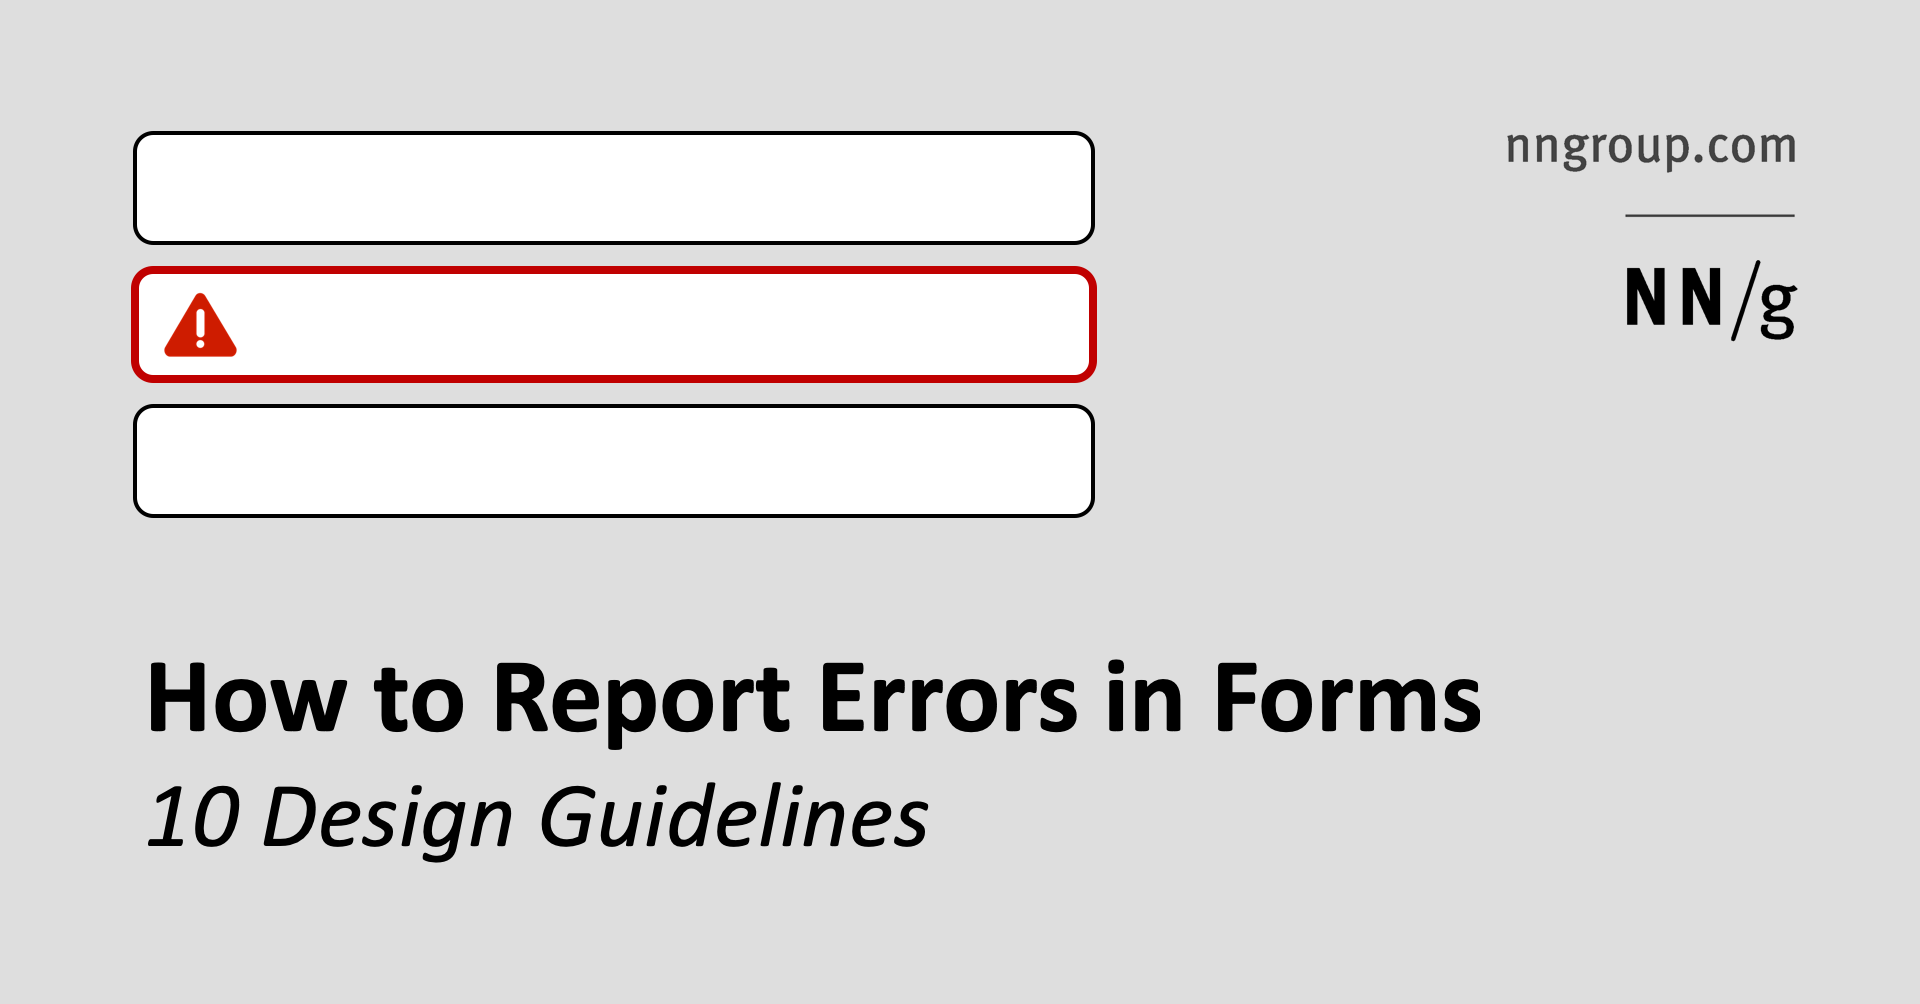error_field: (128, 263, 1098, 383)
